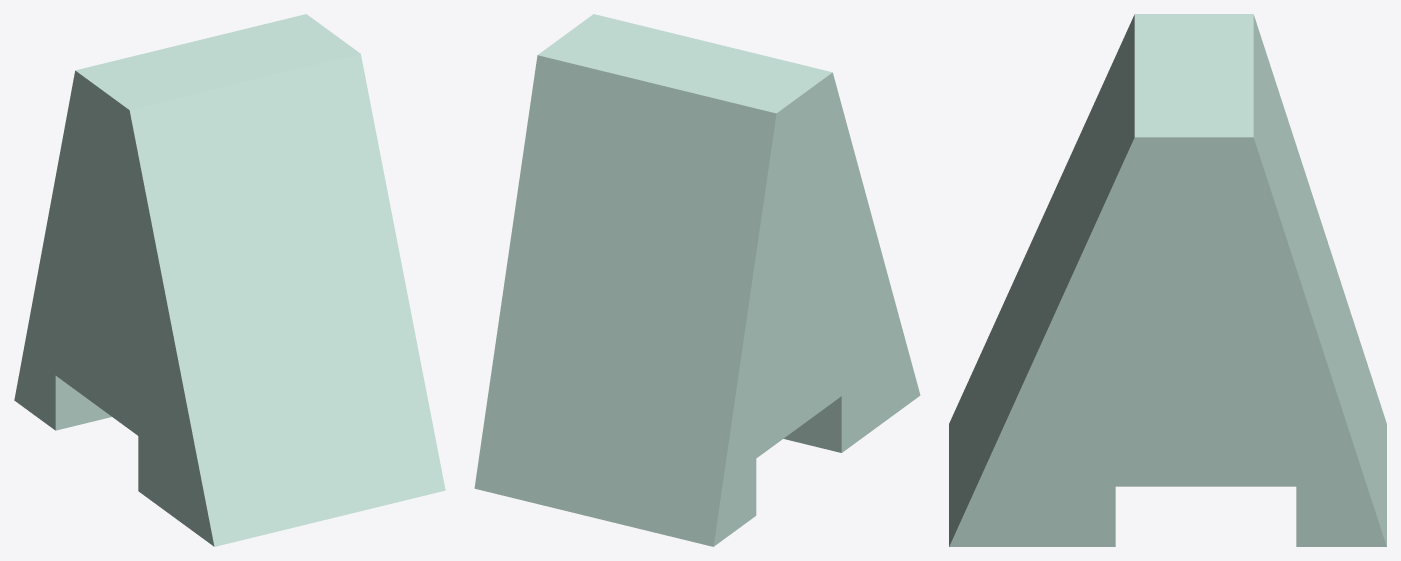
3 renders of one model, left to right at view 1: azimuth 30°, elevation 25°; view 2: azimuth 150°, elevation 25°; view 3: azimuth 270°, elevation 25°, orthographic. The views are drawn at different scales.
Visible parts, largest first — view 1: Renderer Node; view 2: Renderer Node; view 3: Renderer Node.
Boxes of the visible parts, <box> form: Renderer Node: <box>14,14,445,546</box>; Renderer Node: <box>474,14,920,546</box>; Renderer Node: <box>949,14,1386,546</box>.
Size of the model in its own units: 0.4844 by 0.75 by 0.7263.
